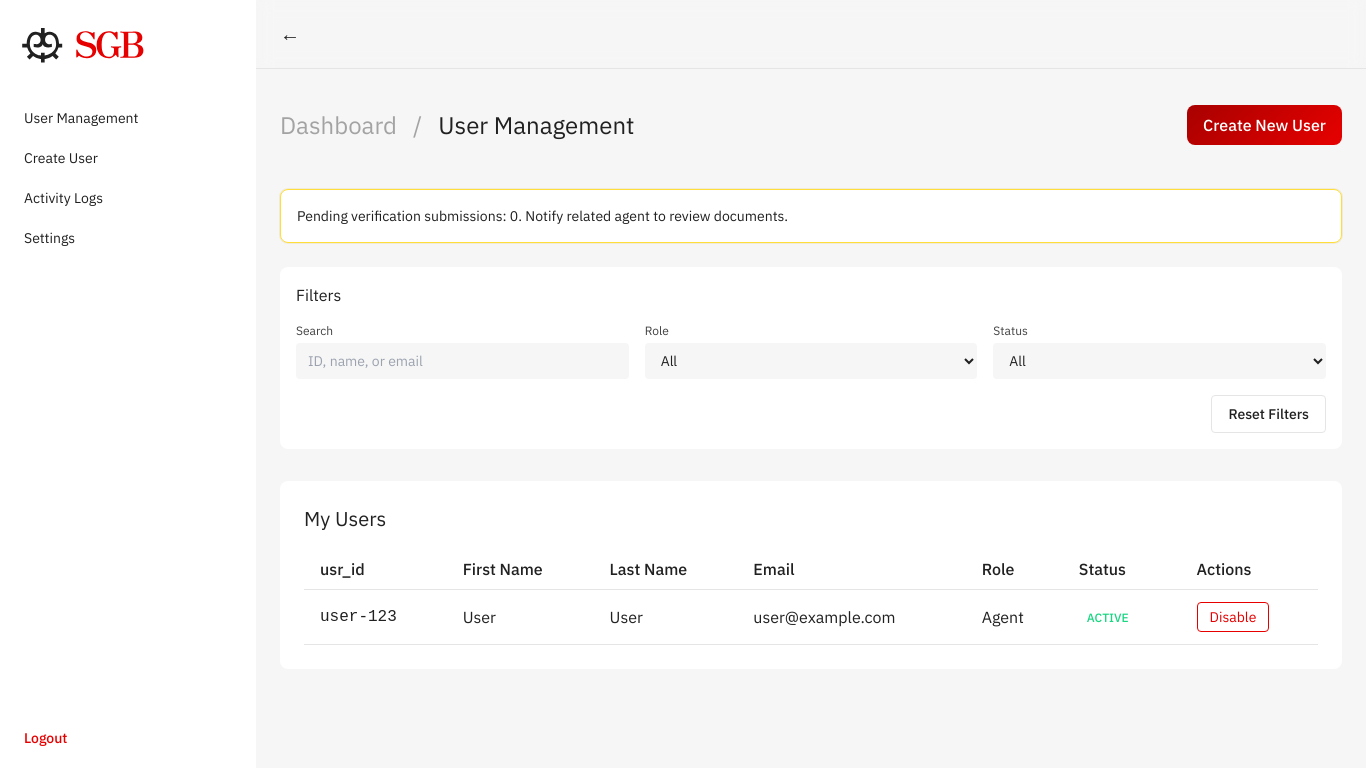
Test case: AdminUserManagementPage › should show error message when disable fails
The image size is (1366, 768).
What coordinates should you click on to do the following:
click the button "Disable"
I would click on:
 (1233, 617)
Its box is top-left (1196, 602), bottom-right (1269, 632).
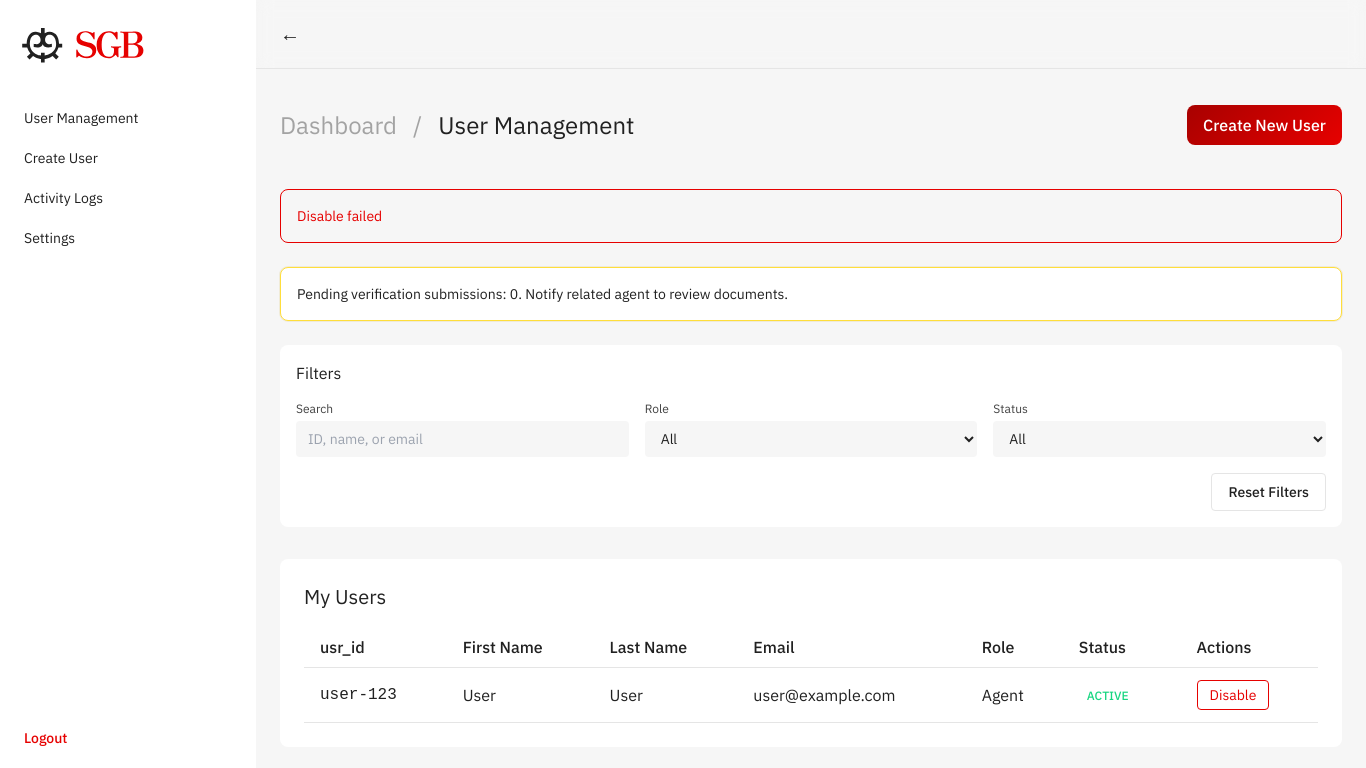
Check: the text "Disable failed" is shown, box top-left (297, 207), bottom-right (382, 225)
